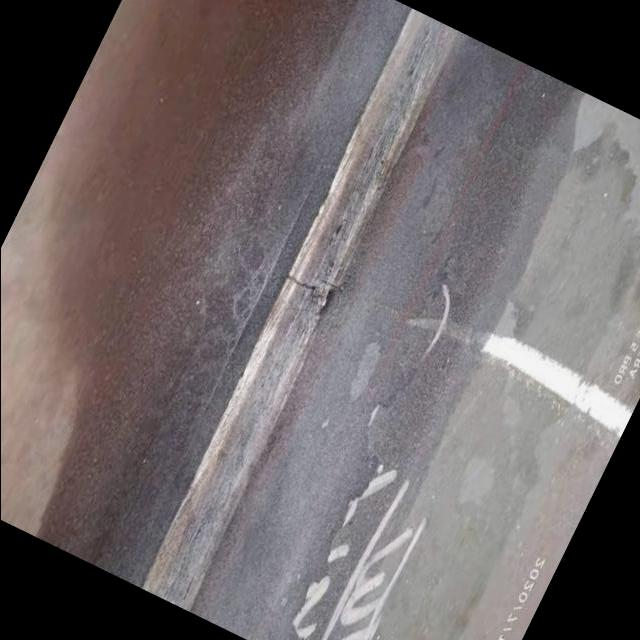defect: (281, 269, 322, 304)
